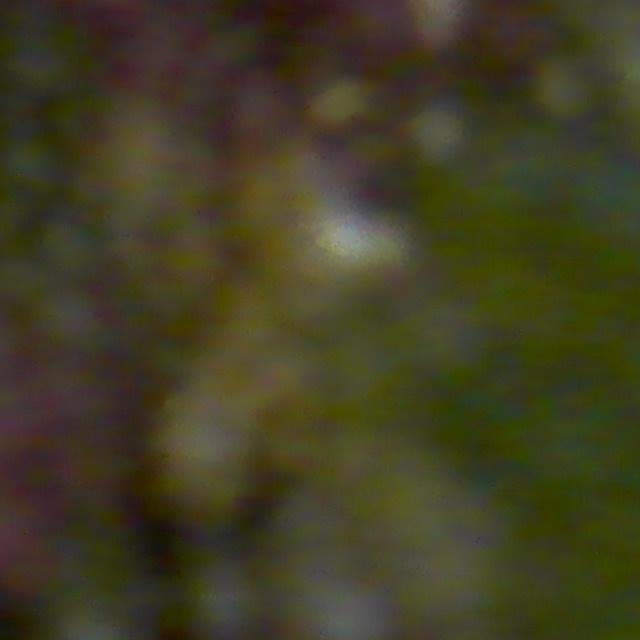SeaGrape: (185, 558, 267, 640), (295, 578, 392, 640), (405, 100, 476, 170), (37, 285, 102, 350), (533, 60, 595, 122), (310, 74, 375, 132)
